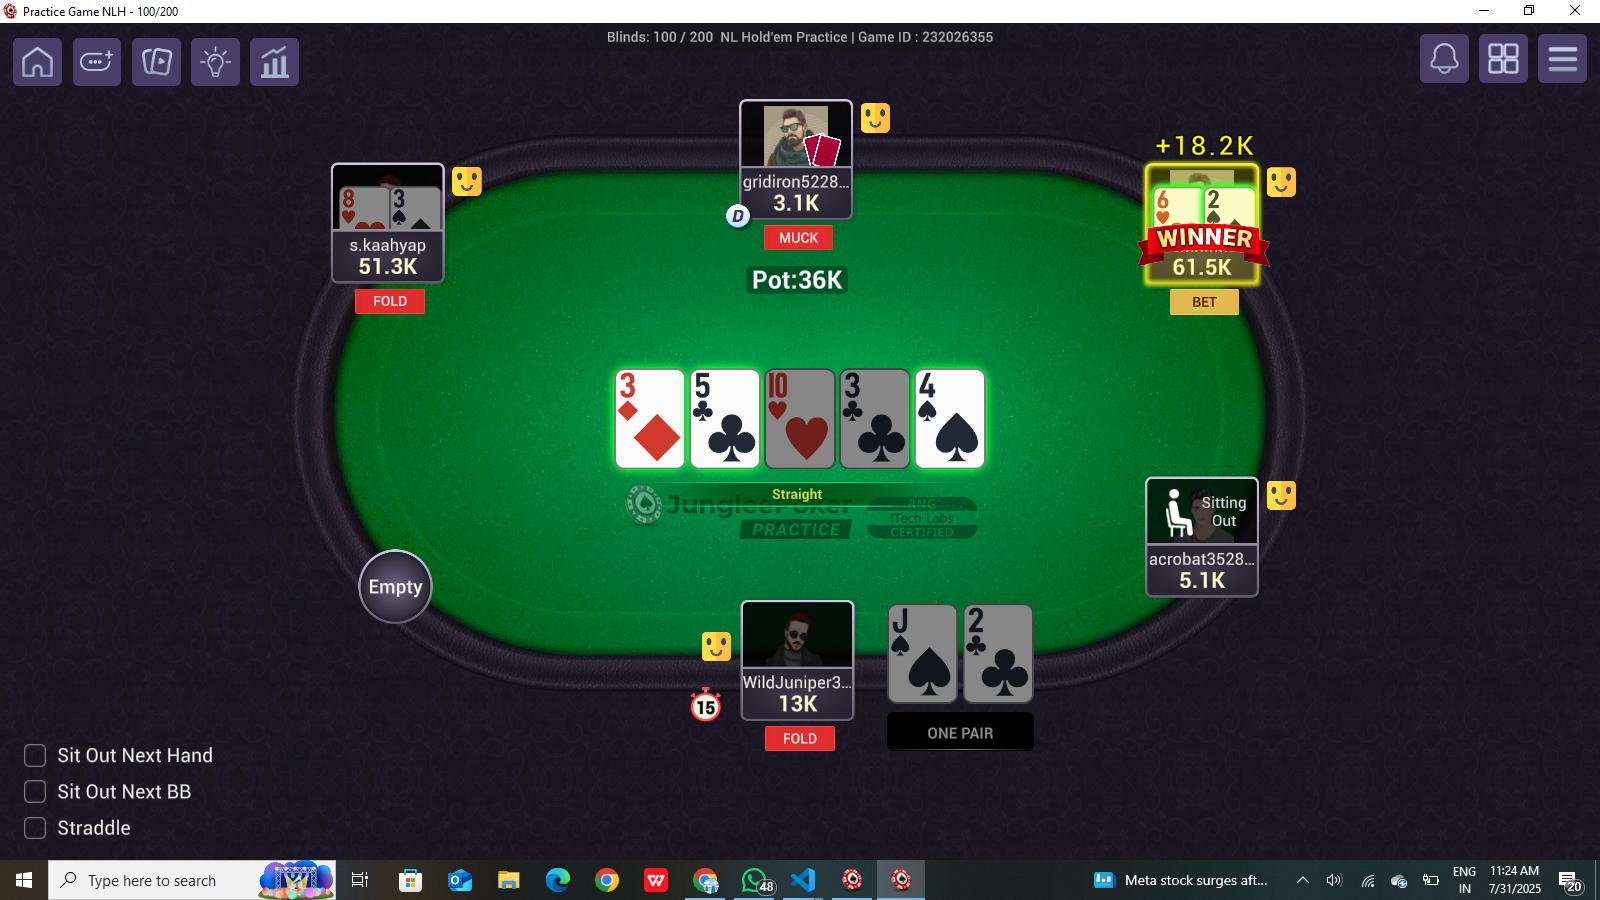card1_rank: (891, 605, 932, 642)
card1_suite_spades: (905, 646, 957, 700)
card2_rank: (965, 603, 1002, 636)
card2_suite_club: (975, 642, 1032, 702)
flop1_rank: (615, 368, 660, 400)
flop1_suite_diamond: (632, 410, 680, 467)
flop2_rank: (690, 370, 729, 402)
flop2_suite_club: (702, 410, 757, 465)
flop3_rank: (764, 370, 810, 402)
flop3_suite_heart: (785, 405, 836, 467)
game_id: (858, 22, 1009, 57)
my_stack: (775, 690, 830, 722)
river_rank: (916, 367, 957, 403)
river_suite_spades: (932, 410, 984, 465)
total_pot: (746, 265, 855, 298)
turn_rank: (843, 368, 885, 402)
turn_suite_club: (855, 410, 909, 467)
villian2_name: (333, 232, 446, 255)
villian2_stack: (346, 257, 429, 281)
villian3_name: (738, 167, 848, 193)
villian3_stack: (767, 191, 830, 222)
villian5_name: (1145, 548, 1257, 568)
villian5_stack: (1174, 570, 1230, 593)
winner: (1146, 160, 1258, 281)
